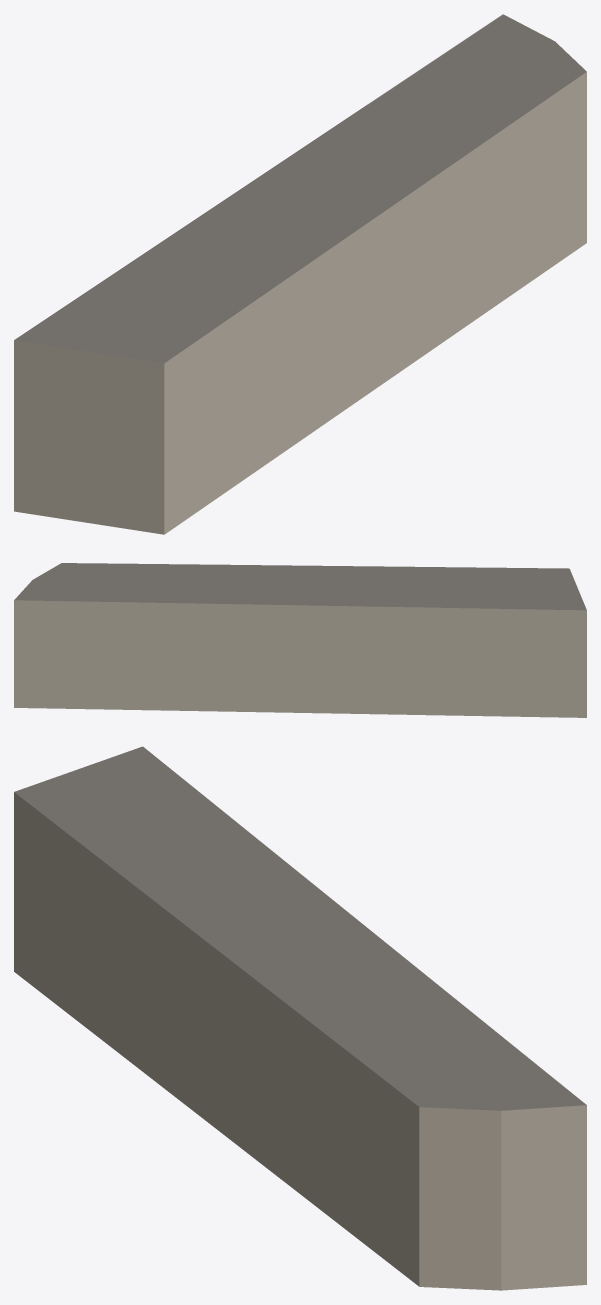
3 views of the same model, one above another, from view 1: azimuth 30°, elevation 25°; view 2: azimuth 150°, elevation 25°; view 3: azimuth 270°, elevation 25° (orthographic). The views are drawn at different scales.
Visible parts, largest first — view 1: HP-w369237917; view 2: HP-w369237917; view 3: HP-w369237917.
Boxes of the visible parts, x1,y1,x2,y2 form: HP-w369237917: (14, 14, 586, 534); HP-w369237917: (14, 563, 586, 717); HP-w369237917: (14, 746, 586, 1290).
Bounding box in the file's own units: 78.26 × 18 × 52.
